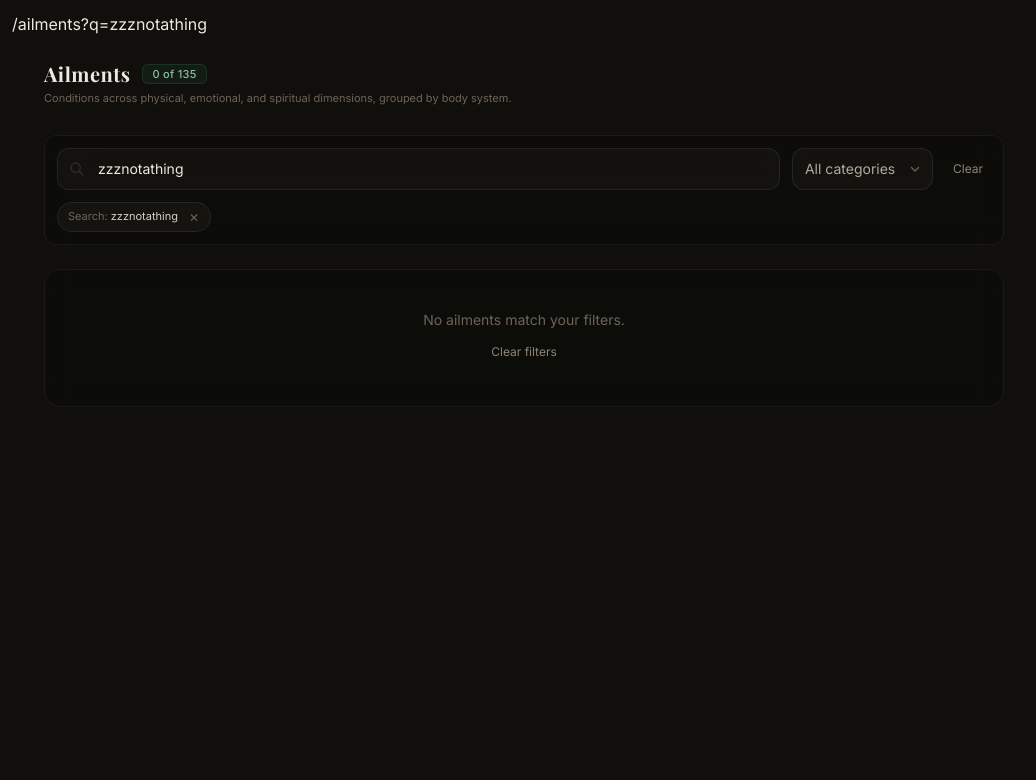
Test: AilmentNavigator — canonical catalog of ailments grouped by body system › Clear from the empty state restores the full catalog
Expected: the text "No ailments match your filters." is shown, [423, 310, 625, 328]
Click the button "Clear filters" at (524, 352), box [483, 338, 565, 366]
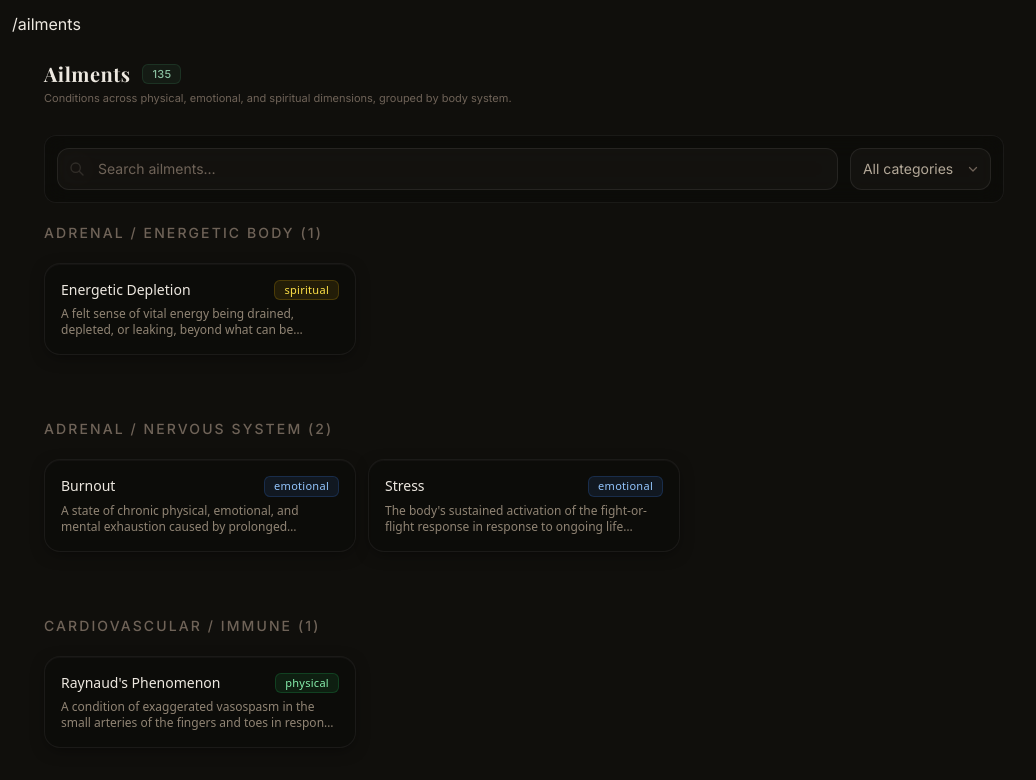
Result: the text with test id "location-probe" no longer shows "q="
